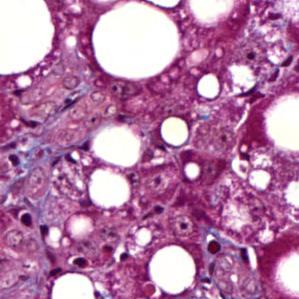steatosis: (157, 113, 190, 151), (91, 3, 101, 8)
